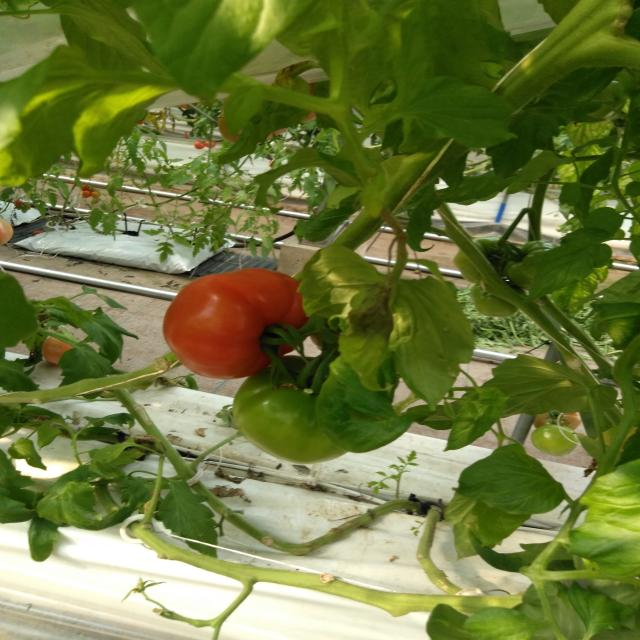n-riped: (162, 268, 311, 380)
n-unriped: (233, 355, 348, 465), (453, 237, 518, 283), (504, 240, 564, 288), (470, 274, 526, 317), (531, 425, 579, 456)
